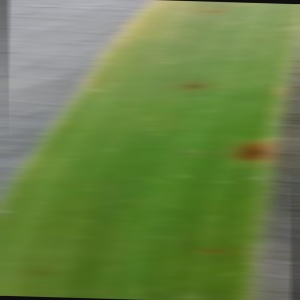Bacterial_Leaf_Blight: (227, 135, 277, 169), (182, 78, 207, 92), (201, 5, 224, 16)
